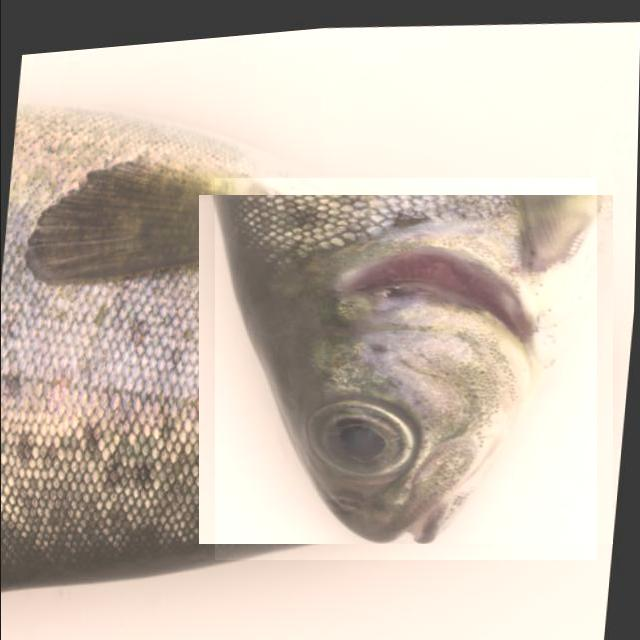Gill Disease: (214, 178, 596, 560)
